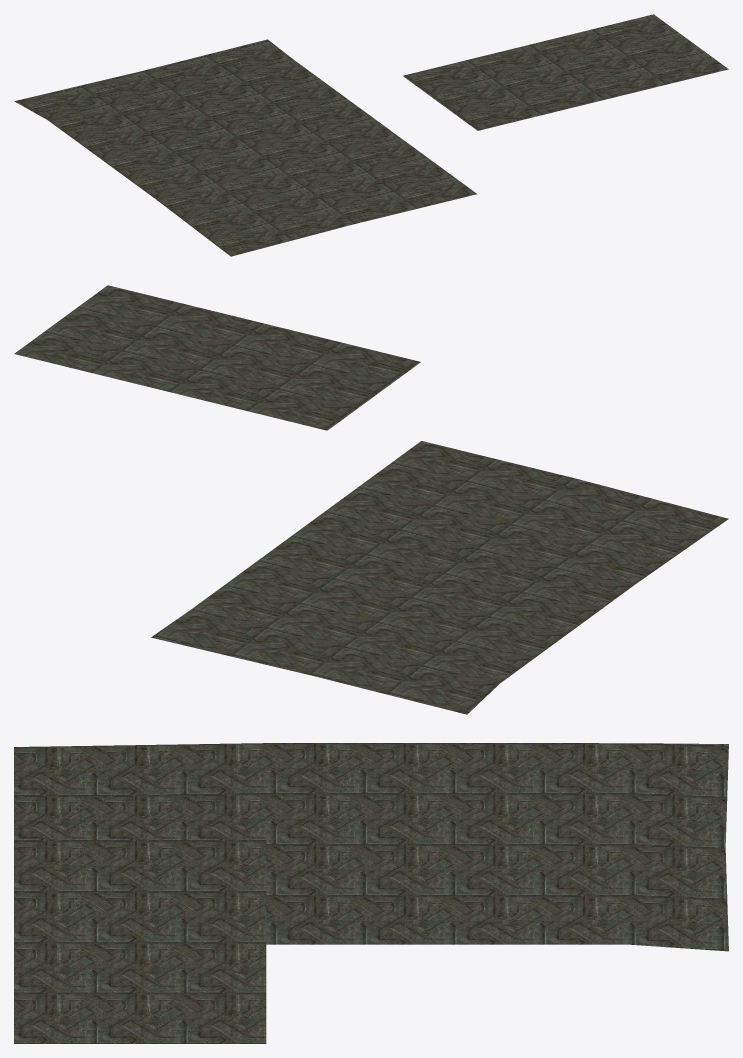
File: CH09_SMAUG_PLAYSURFACE_LAIR101.fbx
3 renders of one model, top to bottom at view 1: azimuth 30°, elevation 25°; view 2: azimuth 150°, elevation 25°; view 3: azimuth 270°, elevation 25°, orthographic. The views are drawn at different scales.
Parts seen in each view (by area): view 1: CH09_SMAUG_PLAYSURFACE_LAIR101; view 2: CH09_SMAUG_PLAYSURFACE_LAIR101; view 3: CH09_SMAUG_PLAYSURFACE_LAIR101.
Boxes of the visible parts, x1=… form: CH09_SMAUG_PLAYSURFACE_LAIR101: x1=14, y1=14, x2=728, y2=256; CH09_SMAUG_PLAYSURFACE_LAIR101: x1=14, y1=285, x2=728, y2=714; CH09_SMAUG_PLAYSURFACE_LAIR101: x1=14, y1=743, x2=728, y2=1043.
Size of the model in its own units: 320707 by 40216 by 236408.
1 material, 1 textured.
